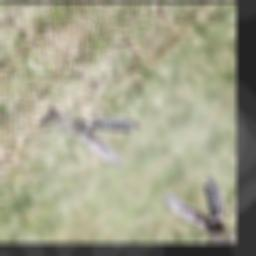Swallow: (33, 80, 157, 179)
